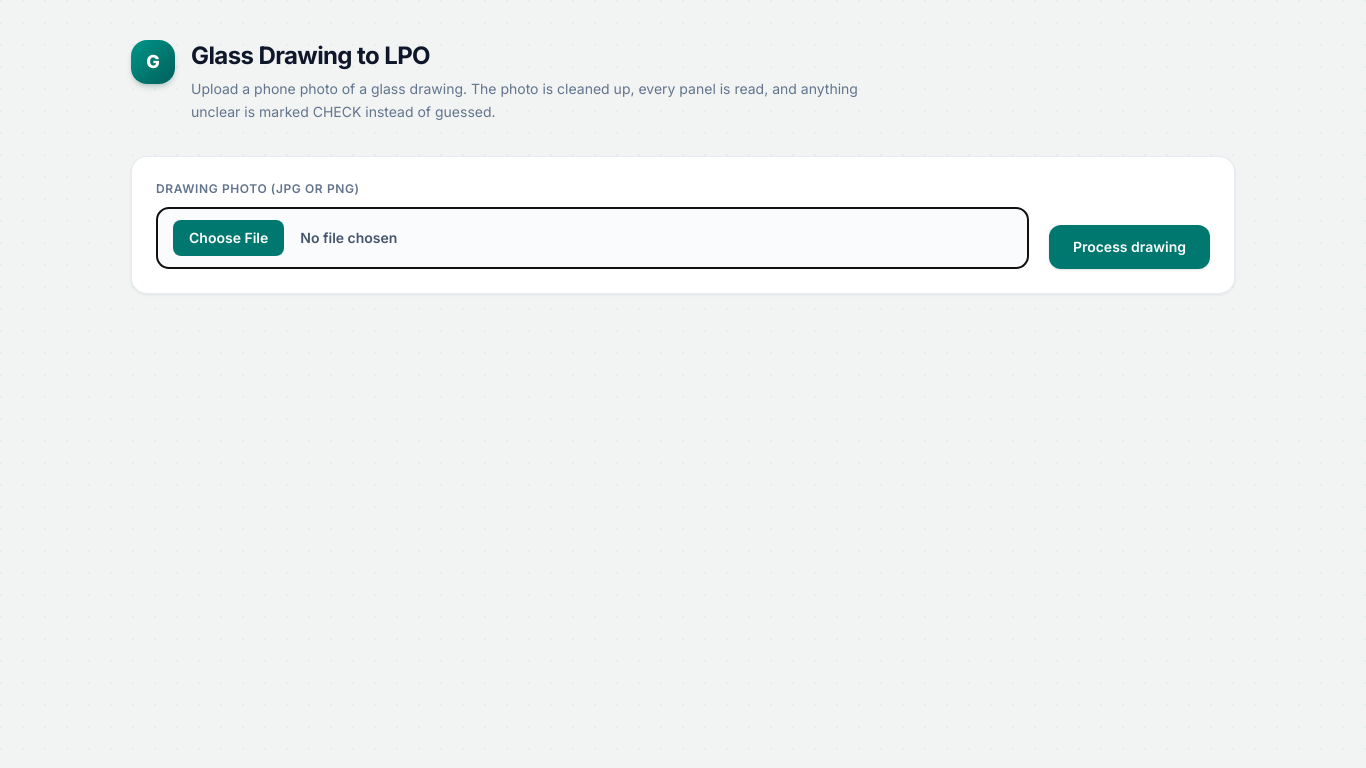
Test: App › shows the server error message when processing fails
Earlier steps of the test are not shown.
Click the button "Process drawing".
click(1129, 246)  # box [1049,224,1210,268]
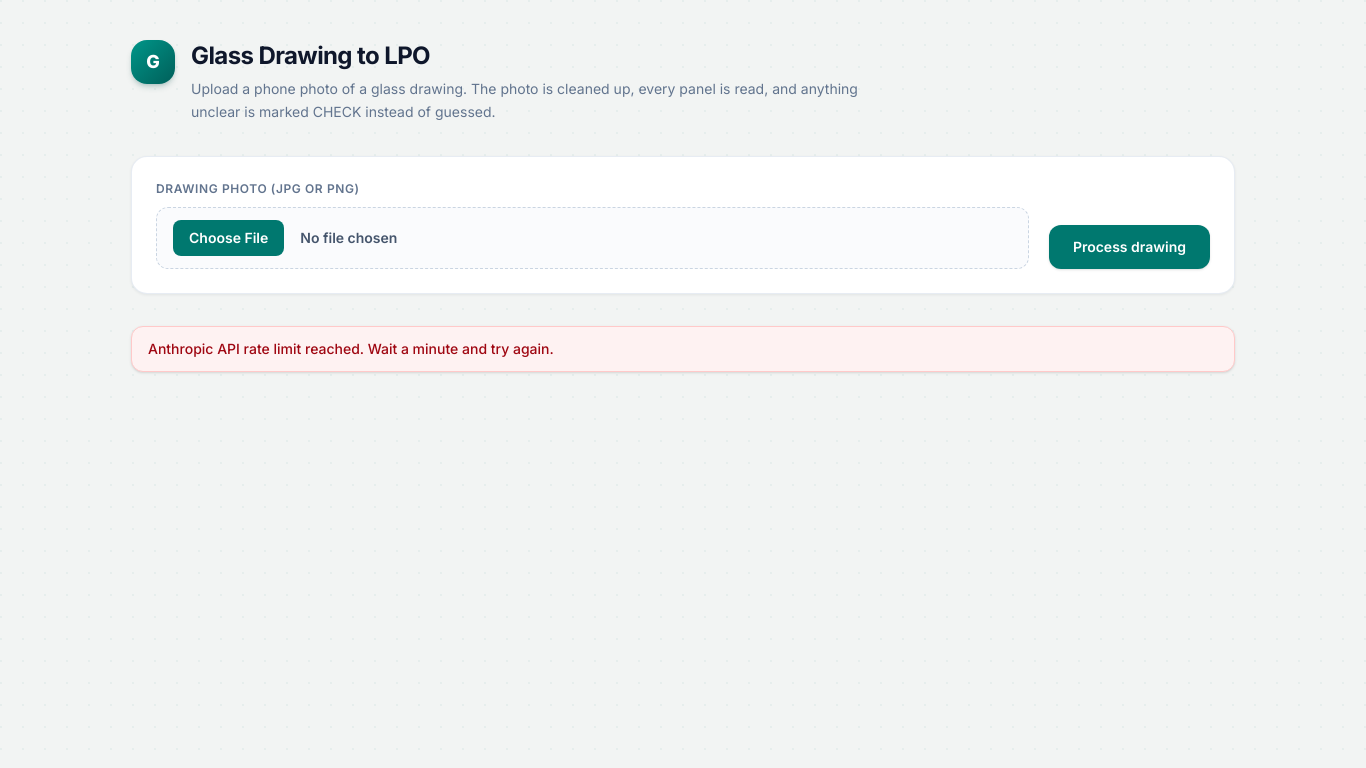
expect the message reads "Anthropic API rate limit reached. Wait a minute and try again.": met, box [148,340,554,356]
